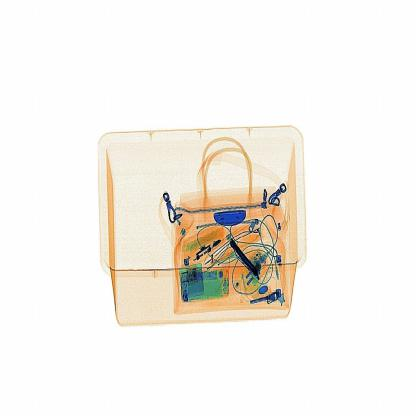knife: (228, 235, 264, 281)
